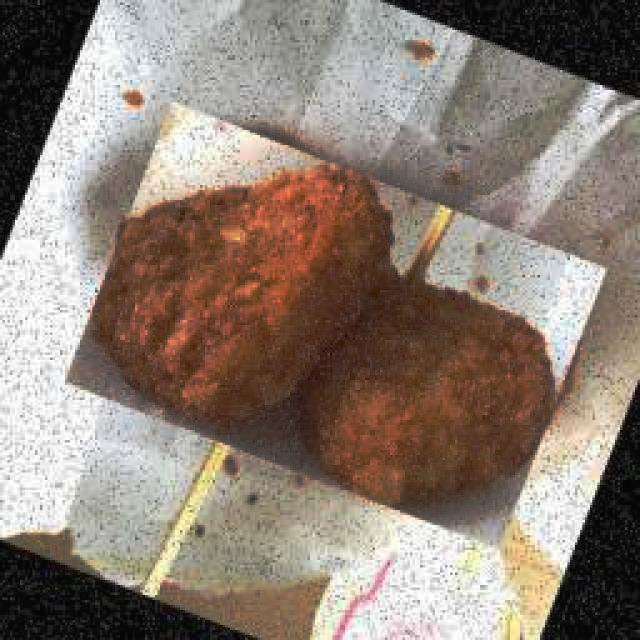Hashbrown: (93, 165, 395, 422), (302, 273, 554, 504)
